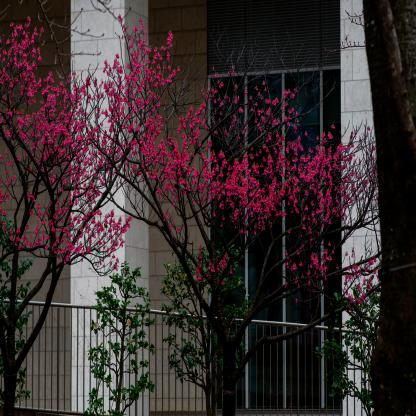KanhiSakura: (141, 66, 381, 339), (0, 9, 184, 278)
